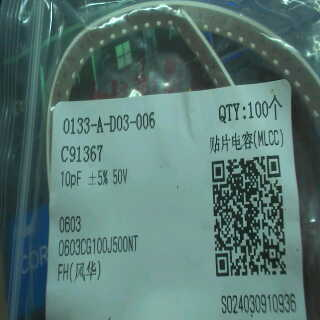10pF: (59, 165, 83, 196)
